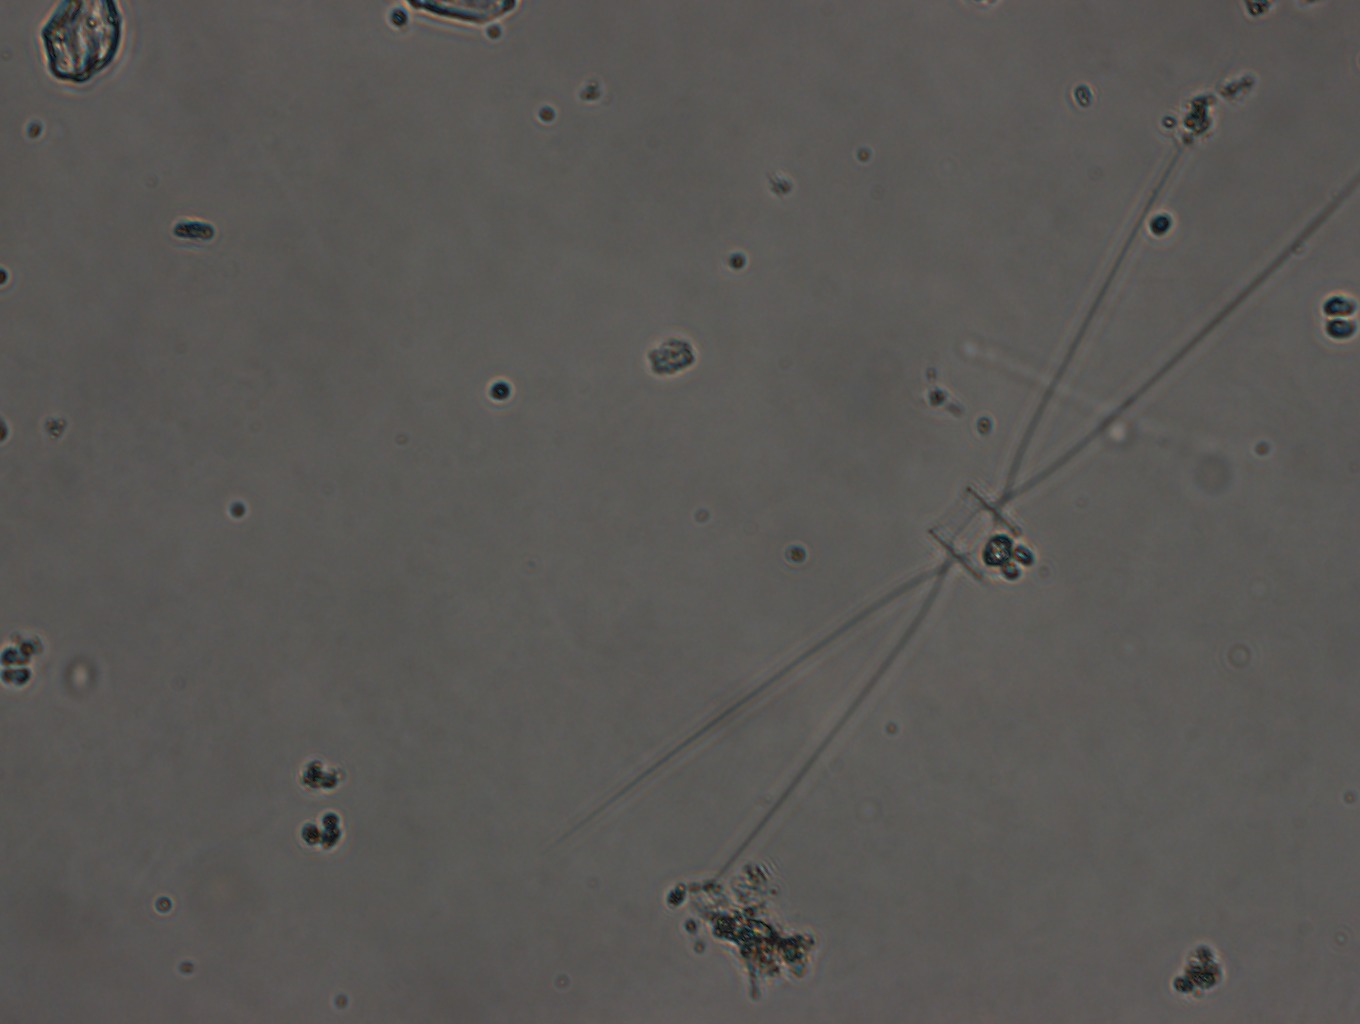chaetoceros: (582, 151, 1360, 876)
